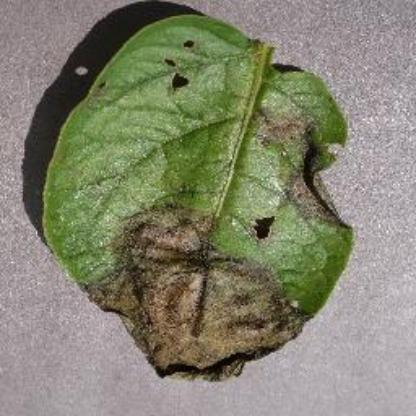Late-Blight: (8, 10, 410, 404)
